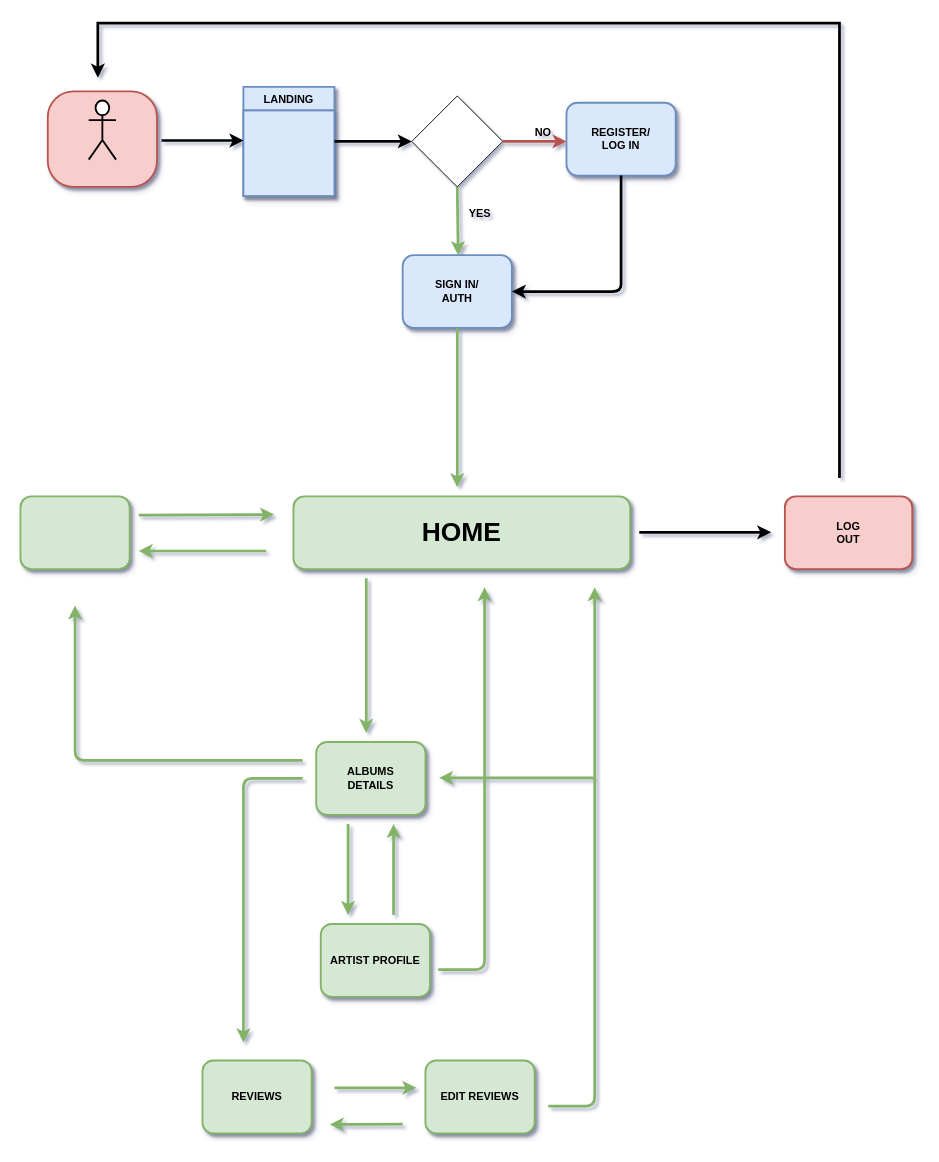
Some shapes in this 939 by 1162 pixel diagram are drawn without their labels. Here are the shapes that lost their labels. From the top down, the centre of each, then its label:
At (x=101, y=129): "USER".
At (x=457, y=141): "Registered?".
At (x=289, y=154): "REGISTER/ LOG IN SIGN IN/ AUTH".
At (x=75, y=533): "FAVORITES".
